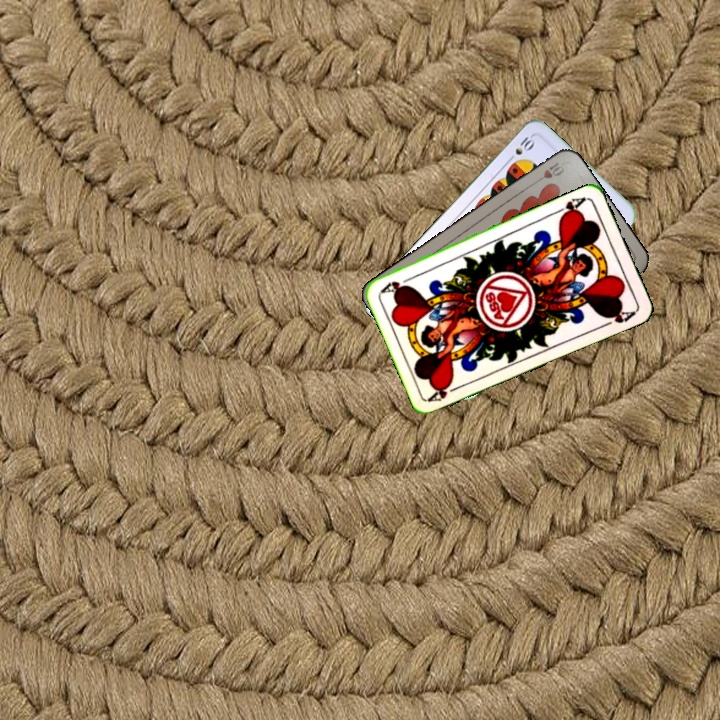H10: (530, 158, 567, 187)
HA: (550, 192, 589, 221), (425, 378, 464, 404)
S10: (504, 132, 537, 164)
